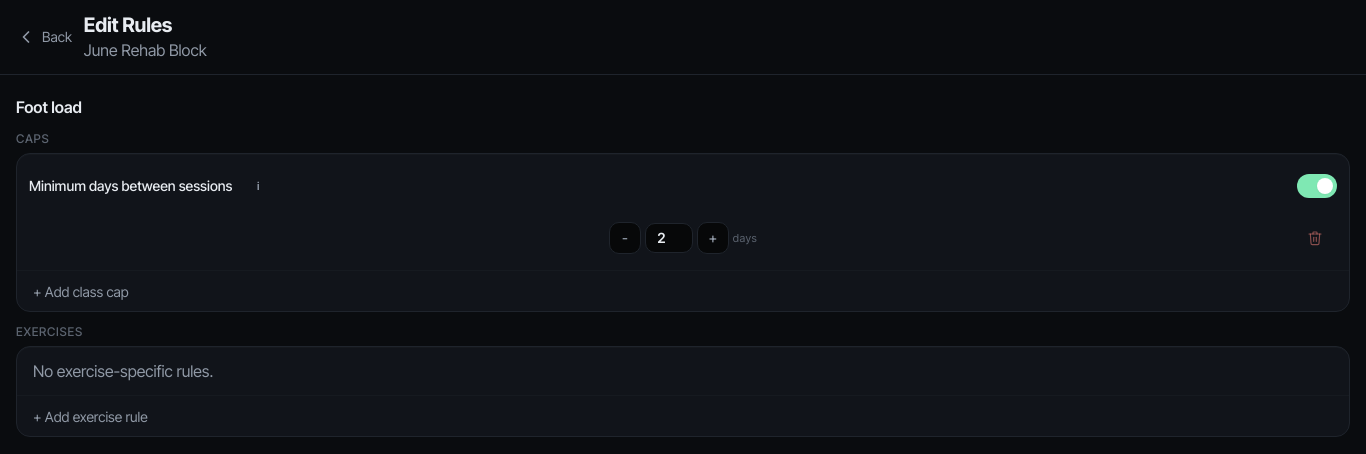
EditBlockRulesScreen compact rule rows › moves helper copy out of permanent row text and exposes it through a touch-reachable info control
What coordinates should you click on to do the following:
click the button named "minimum days between sessions info"
I would click on:
 (258, 186)
Its box is [236,164,280,208].
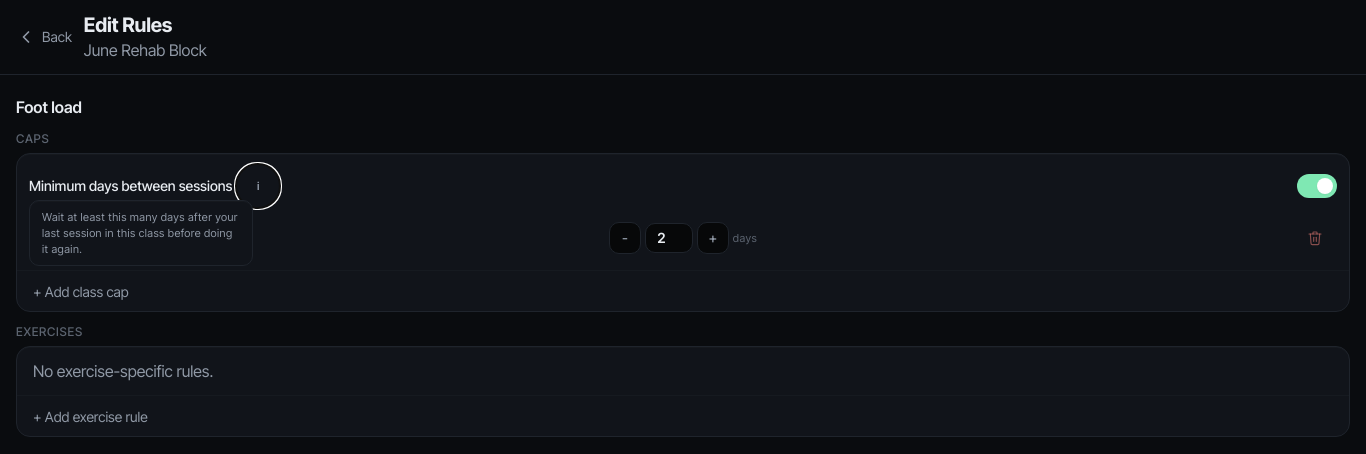
expect the text "Wait at least this many days after your last session in this class before doing it again." is shown: met, box [42,210,238,256]
